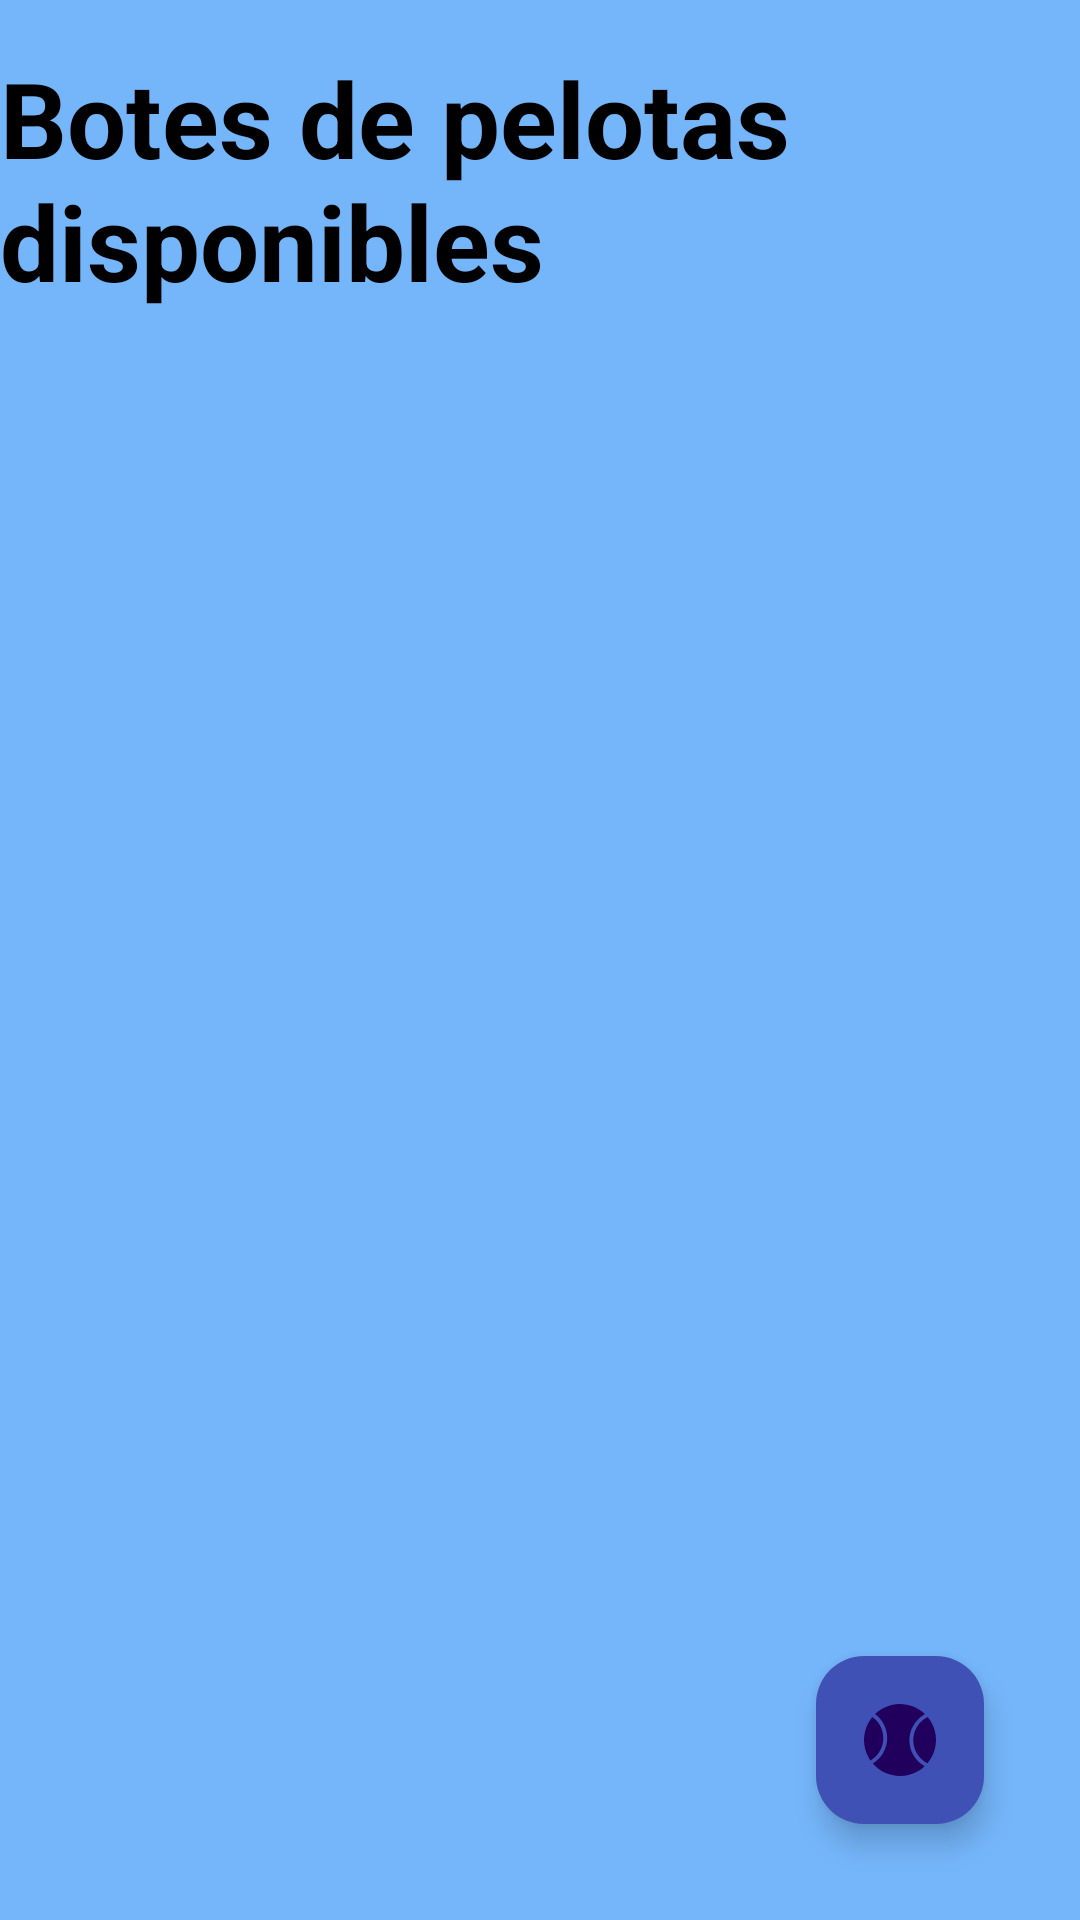

Icon bounding boxes for this 1080×1920 phone screenshot, format (x1, y1, x2, y2):
tennis ball: (816, 1656, 984, 1824)
